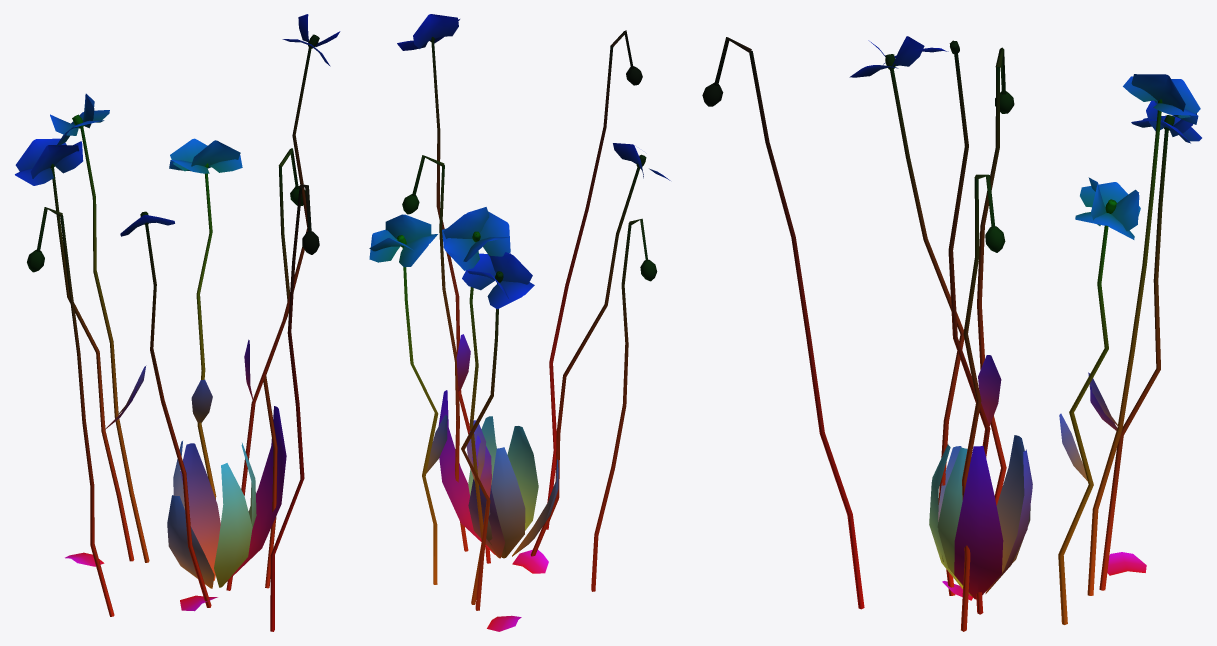
The model's file is SM_Flower_Poppy_A_LOD1.fbx.
The picture shows the model from 3 angles, left to right: view 1: azimuth 30°, elevation 25°; view 2: azimuth 150°, elevation 25°; view 3: azimuth 270°, elevation 25°; orthographic projection. The views are drawn at different scales.
Parts seen in each view (by area): view 1: SM_Flower_Poppy_A_LOD1; view 2: SM_Flower_Poppy_A_LOD1; view 3: SM_Flower_Poppy_A_LOD1.
Boxes of the visible parts, x1=… form: SM_Flower_Poppy_A_LOD1: x1=15, y1=14, x2=340, y2=631; SM_Flower_Poppy_A_LOD1: x1=369, y1=14, x2=670, y2=631; SM_Flower_Poppy_A_LOD1: x1=702, y1=36, x2=1201, y2=631.
Size of the model in its own units: 0.3281 by 0.6096 by 0.4336.
